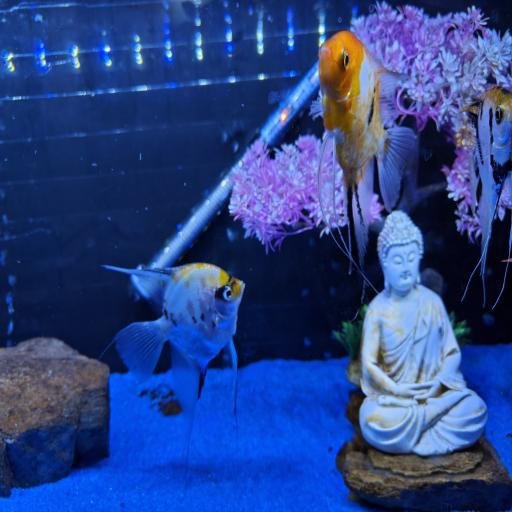Fish: (104, 263, 244, 464), (319, 31, 416, 266), (461, 87, 511, 281)
